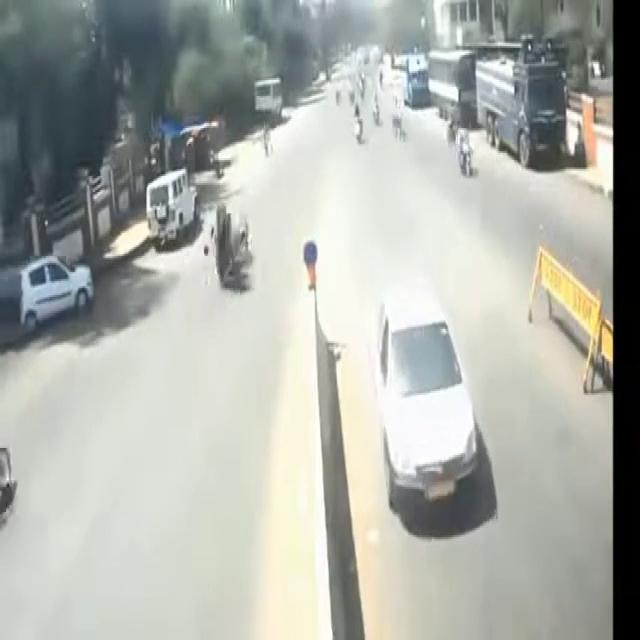accident: (198, 163, 258, 296)
